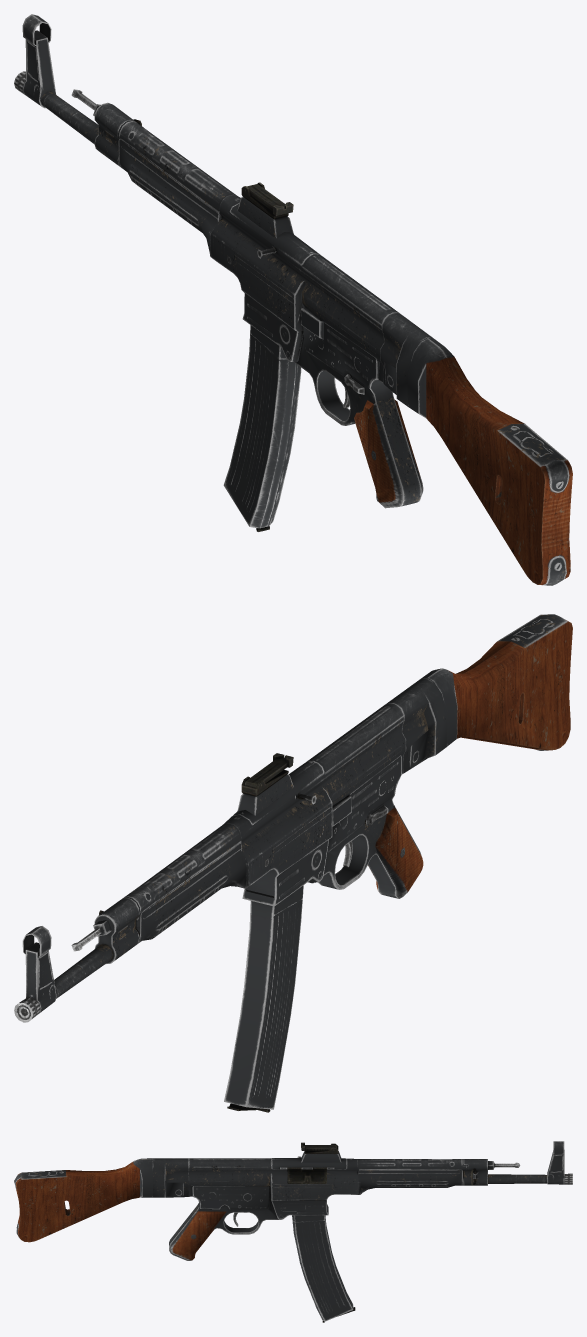
3 views of the same model, one above another, from view 1: azimuth 30°, elevation 25°; view 2: azimuth 150°, elevation 25°; view 3: azimuth 270°, elevation 25° (orthographic). The views are drawn at different scales.
Parts seen in each view (by area): view 1: MP44; view 2: MP44; view 3: MP44.
Part boxes in pixels (box(x1,y1,x2,y2)): MP44: box(14, 14, 572, 585); MP44: box(14, 614, 572, 1112); MP44: box(14, 1141, 572, 1322).
Bounding box in the file's own units: 1.95 × 13.35 × 37.55.
